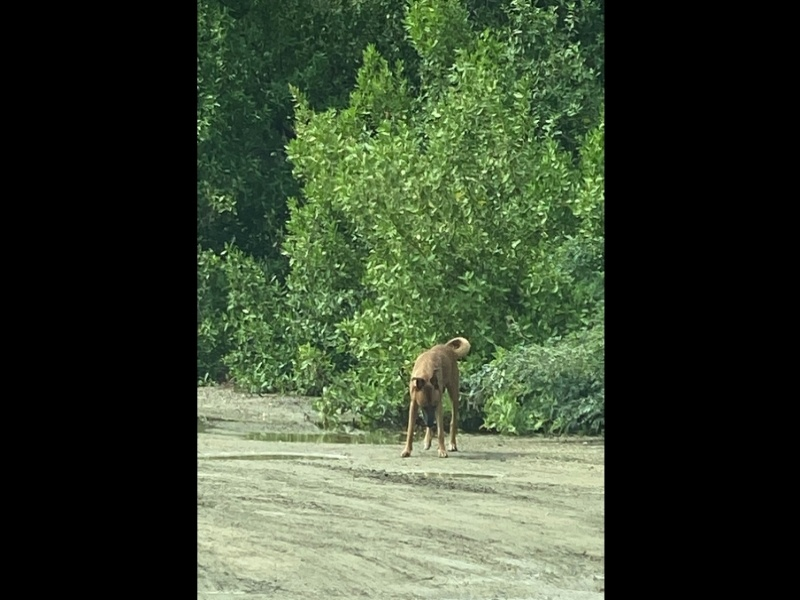dog: (398, 331, 476, 463)
